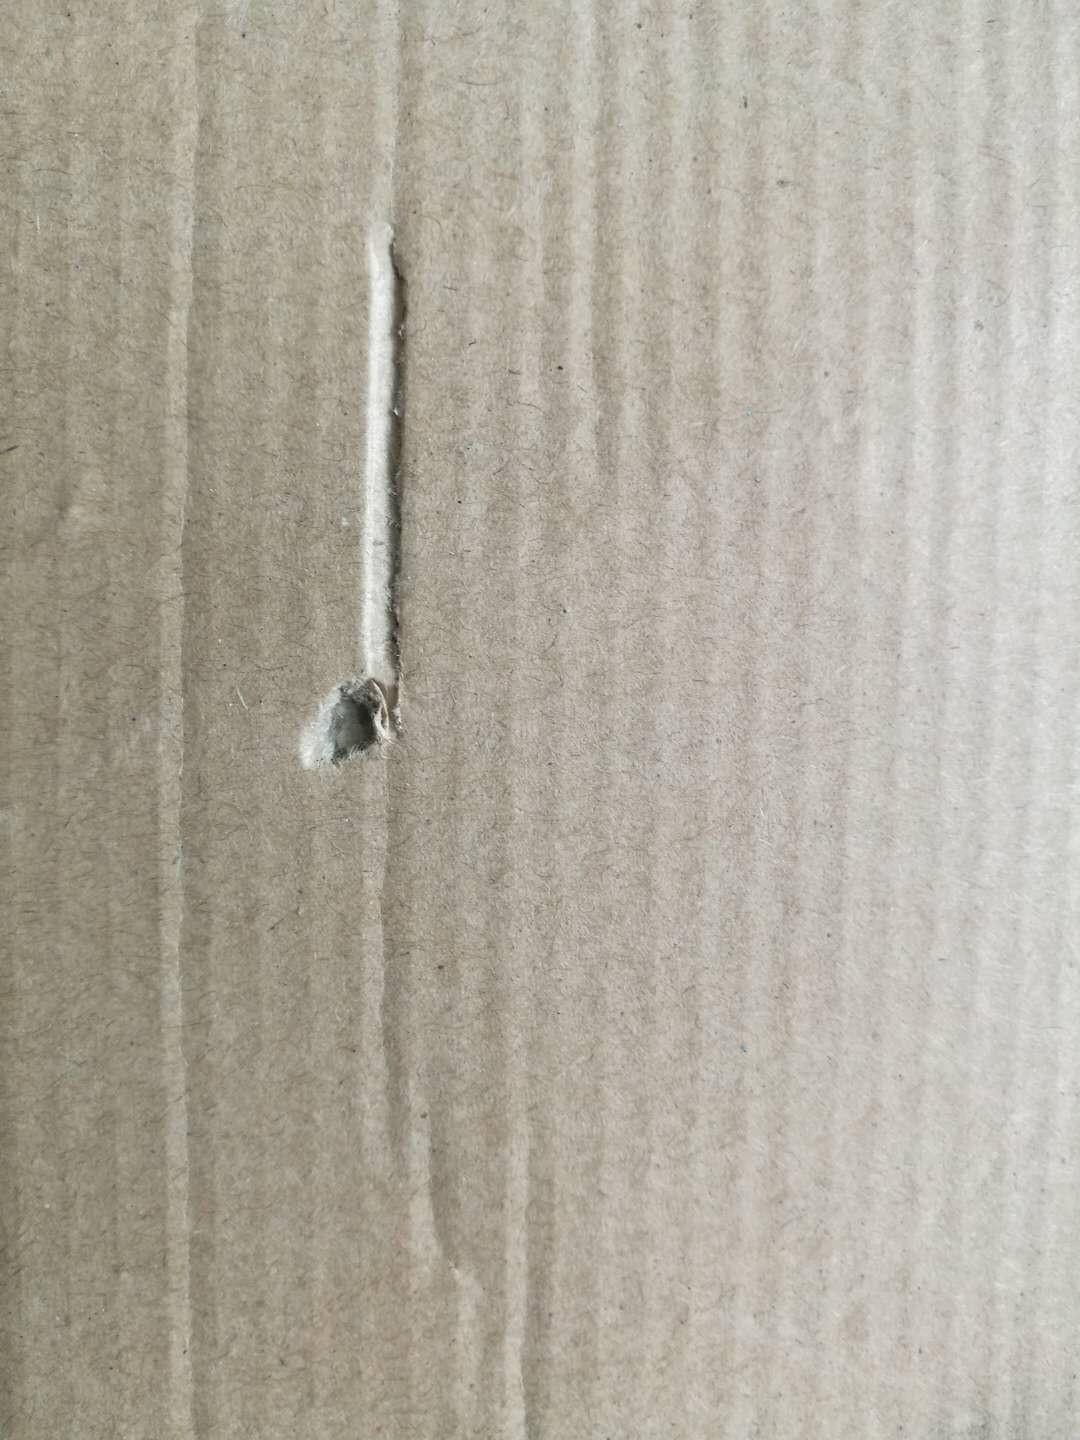defect: (134, 5, 246, 1440), (346, 841, 579, 1440), (262, 190, 483, 816)
